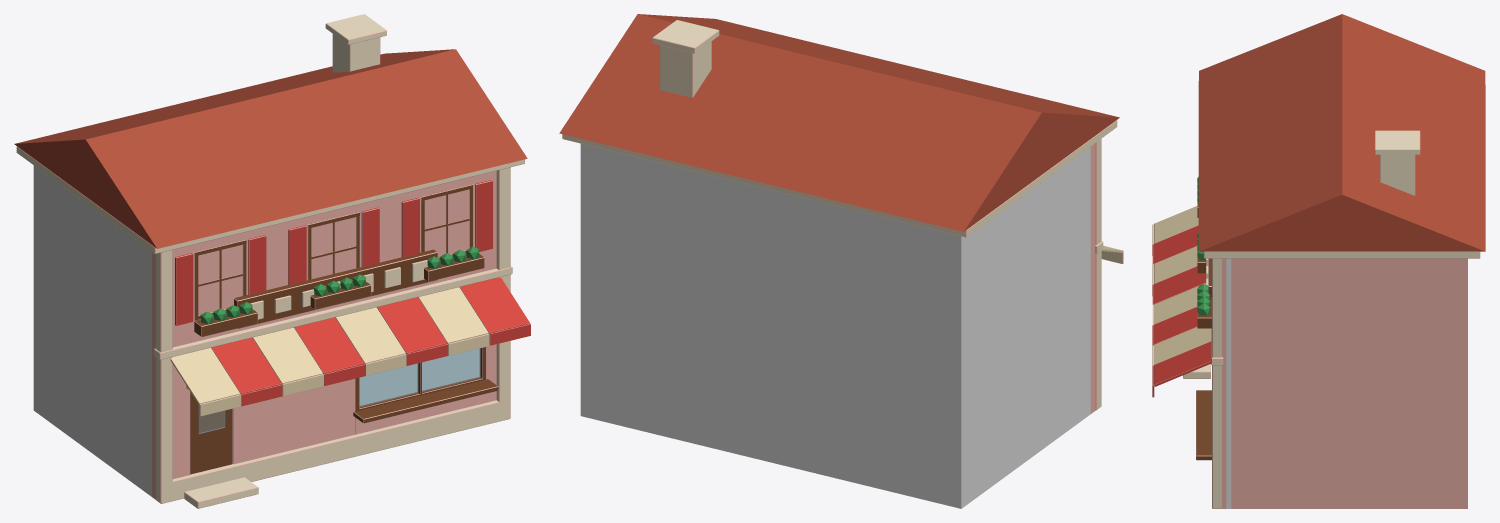
File: bld_shopfront_a.glb
The picture shows the model from 3 angles, left to right: view 1: azimuth 30°, elevation 25°; view 2: azimuth 150°, elevation 25°; view 3: azimuth 270°, elevation 25°; orthographic projection. The views are drawn at different scales.
Visible parts, largest first — view 1: bld_shopfront_a, COL_bld_shopfront_a_1; view 2: COL_bld_shopfront_a_1, bld_shopfront_a; view 3: bld_shopfront_a, COL_bld_shopfront_a_1.
Boxes of the visible parts, x1=… form: bld_shopfront_a: x1=14, y1=14, x2=530, y2=508; COL_bld_shopfront_a_1: x1=33, y1=165, x2=479, y2=496; COL_bld_shopfront_a_1: x1=580, y1=143, x2=1090, y2=508; bld_shopfront_a: x1=559, y1=14, x2=1123, y2=413; bld_shopfront_a: x1=1152, y1=14, x2=1485, y2=508; COL_bld_shopfront_a_1: x1=1226, y1=258, x2=1231, y2=508.
Size of the model in its own units: 8.5 by 7.44 by 6.62.
